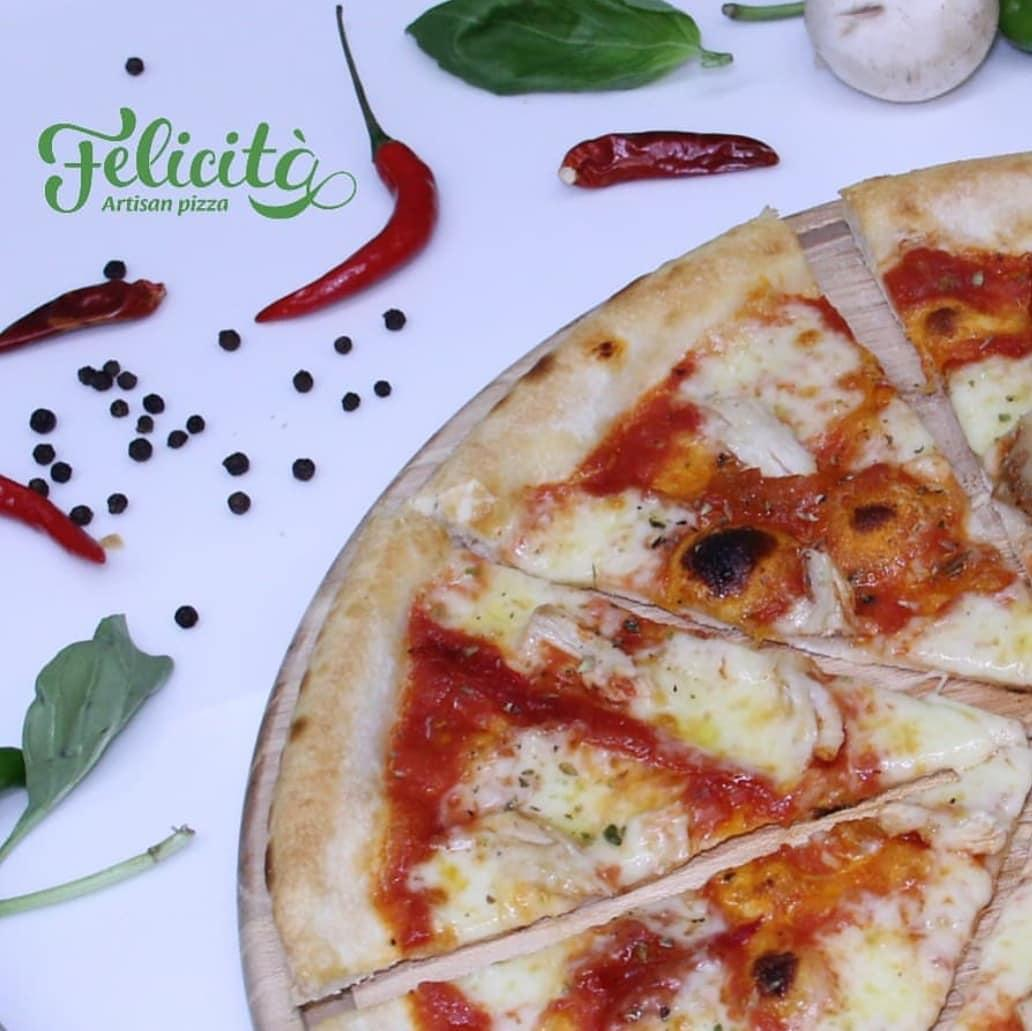Pizza: (265, 146, 1032, 1031)
